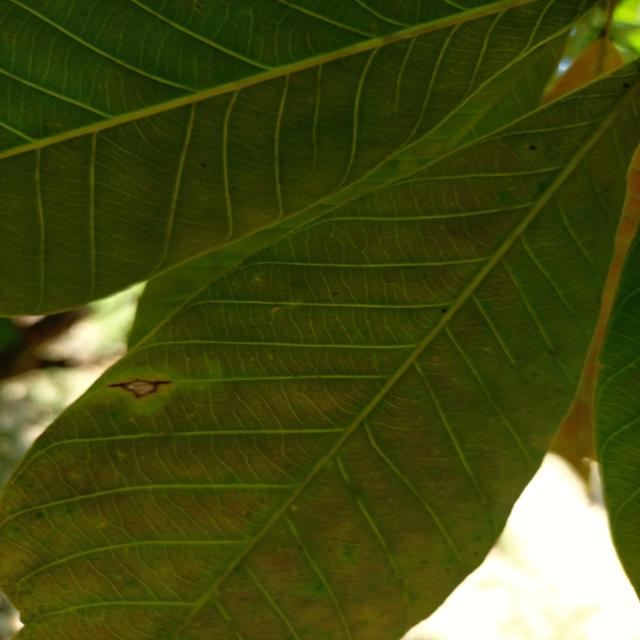Corynespora: (107, 377, 173, 400)
